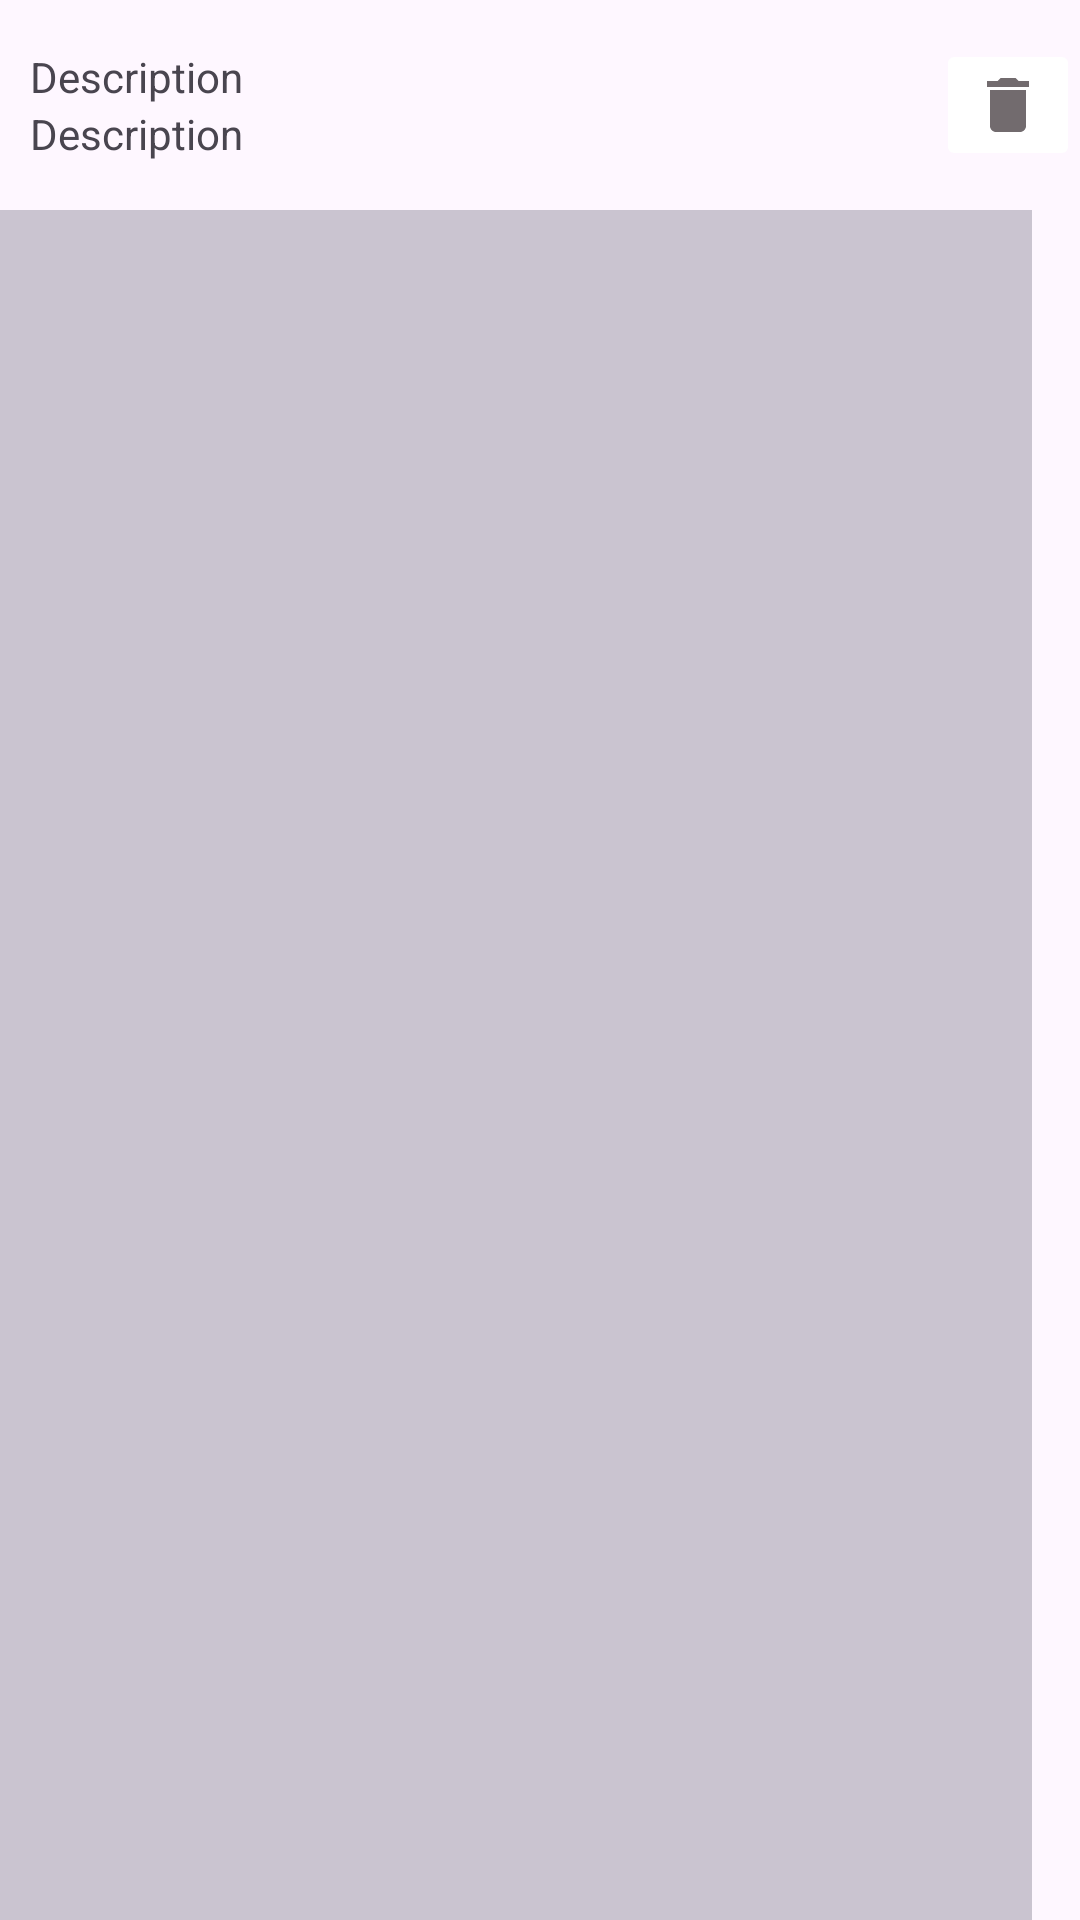

Icons on this 1080w x 1920h Android screen, each with its box as bbox=[x1, y1, x2, y2]:
delete: bbox=[987, 78, 1029, 132]
